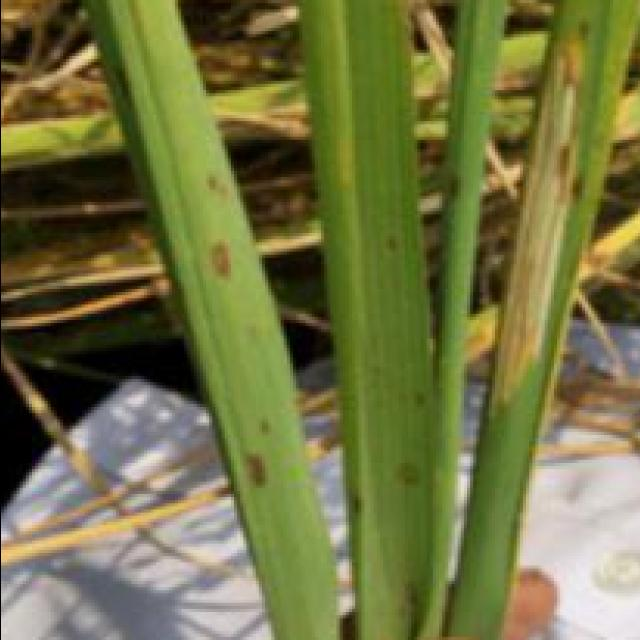Brown_Spot: (208, 230, 239, 302), (246, 441, 276, 503), (208, 162, 236, 202), (444, 168, 469, 212), (398, 460, 428, 491), (578, 7, 603, 40), (388, 227, 410, 255)
